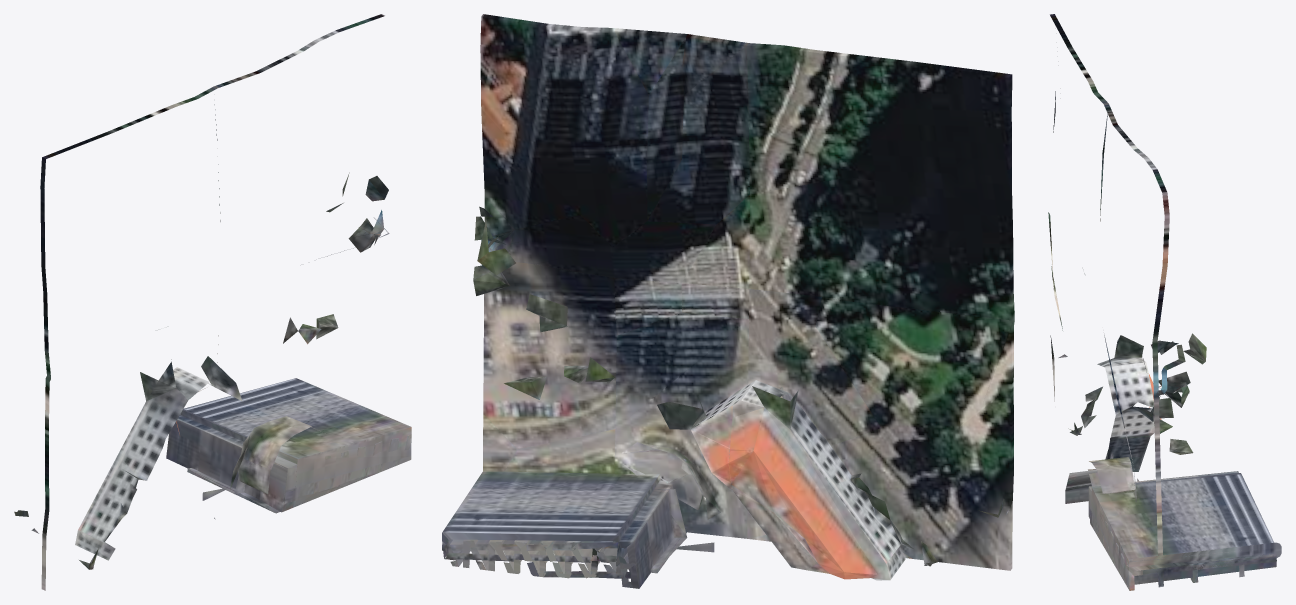
Rendered from tile_132.glb.
3 renders of one model, left to right at view 1: azimuth 30°, elevation 25°; view 2: azimuth 150°, elevation 25°; view 3: azimuth 270°, elevation 25°, orthographic. The views are drawn at different scales.
Bounding box in the file's own units: 154 × 152 × 83.44.
Materials: 2 (2 with a texture image).
